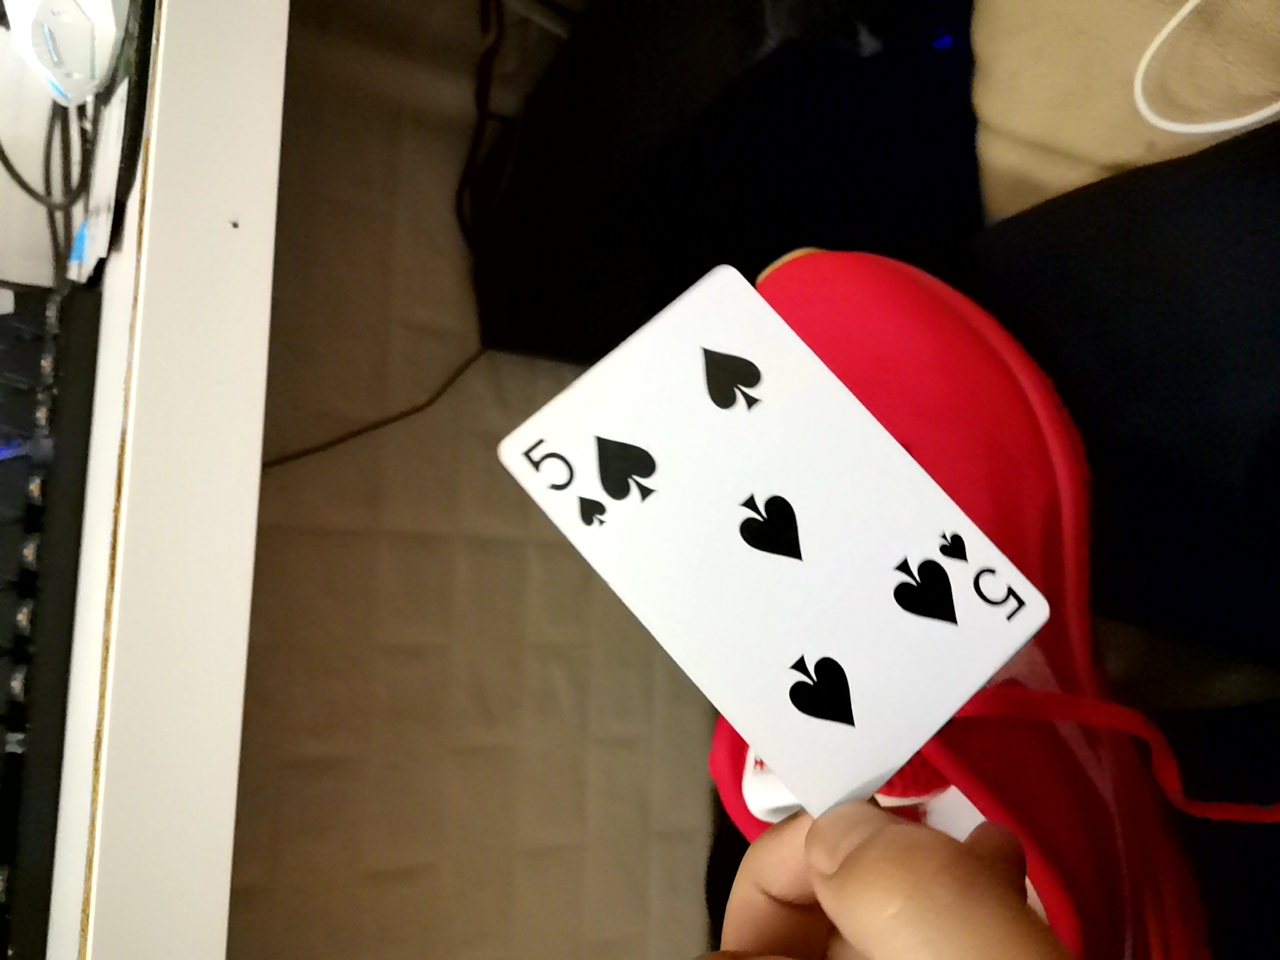ht 5: (503, 264, 1034, 853)
